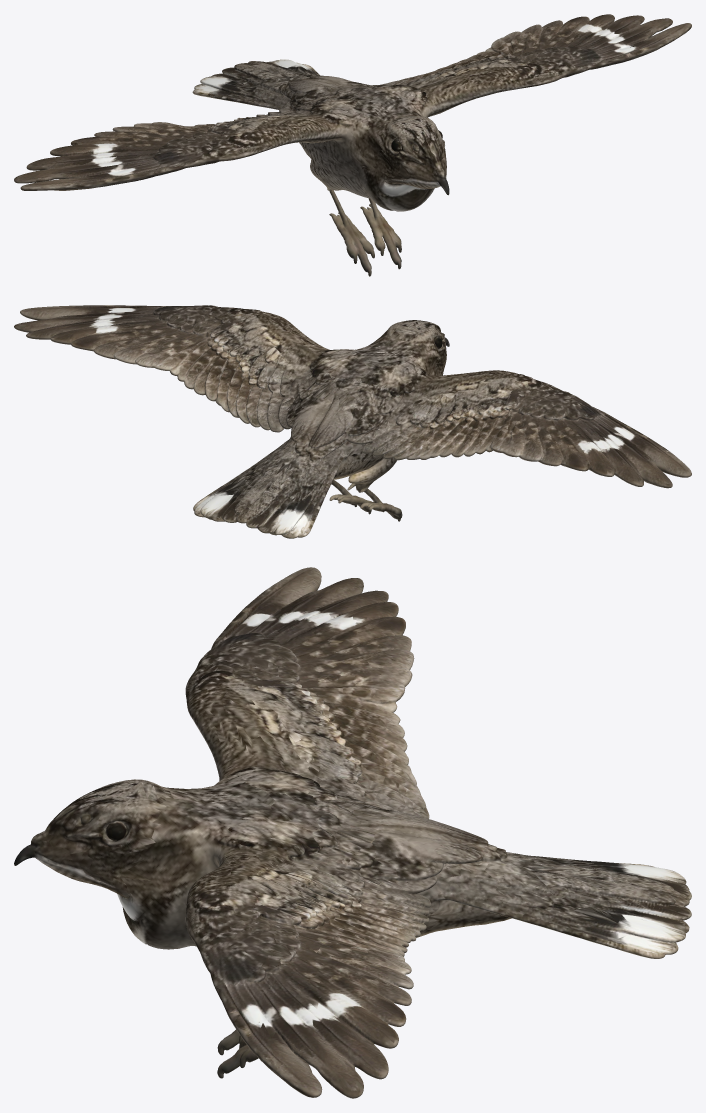
The model's file is Caprimulgus_jotaka.glb.
3 renders of one model, top to bottom at view 1: azimuth 30°, elevation 25°; view 2: azimuth 150°, elevation 25°; view 3: azimuth 270°, elevation 25°, orthographic. The views are drawn at different scales.
Visible parts, largest first — view 1: orient; view 2: orient; view 3: orient.
Part boxes in pixels (left/top/right/bottom): orient: left=14, top=14, right=691, bottom=276; orient: left=14, top=305, right=691, bottom=538; orient: left=14, top=567, right=691, bottom=1098.
Bounding box in the file's own units: 0.5 × 0.1235 × 0.2713.
Materials: 1 (1 with a texture image).
